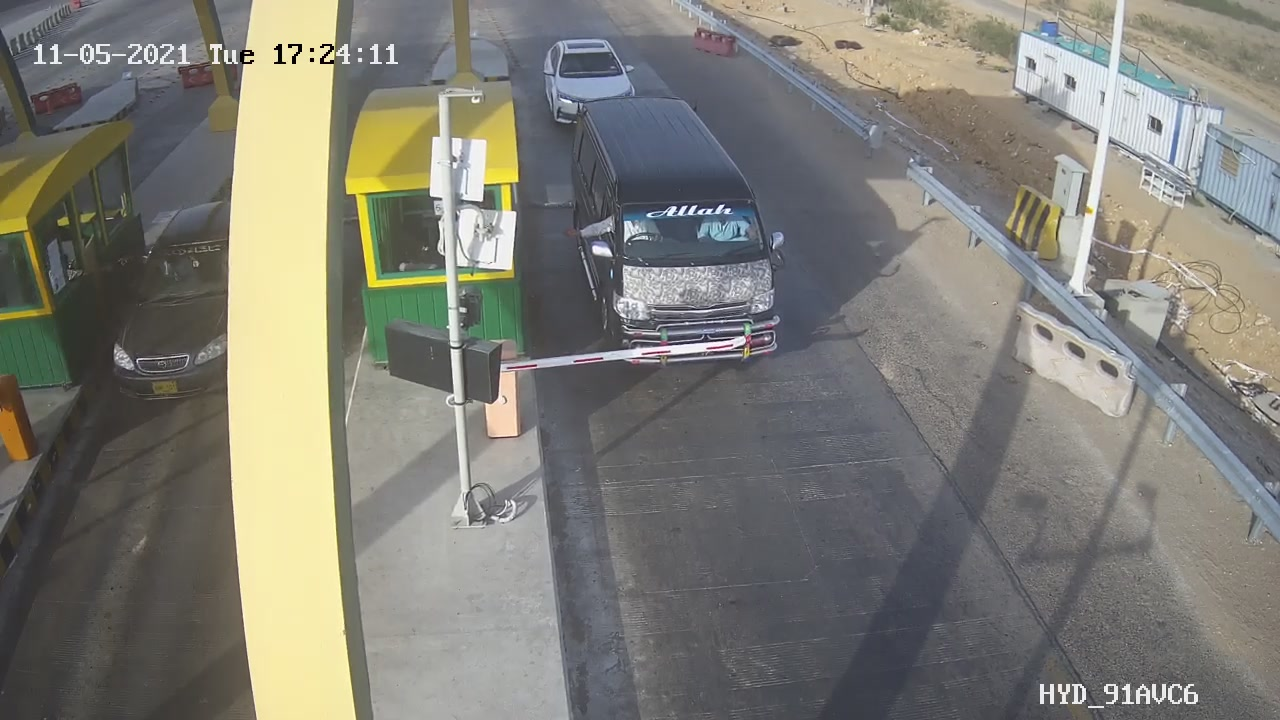F2: (550, 87, 804, 387)
